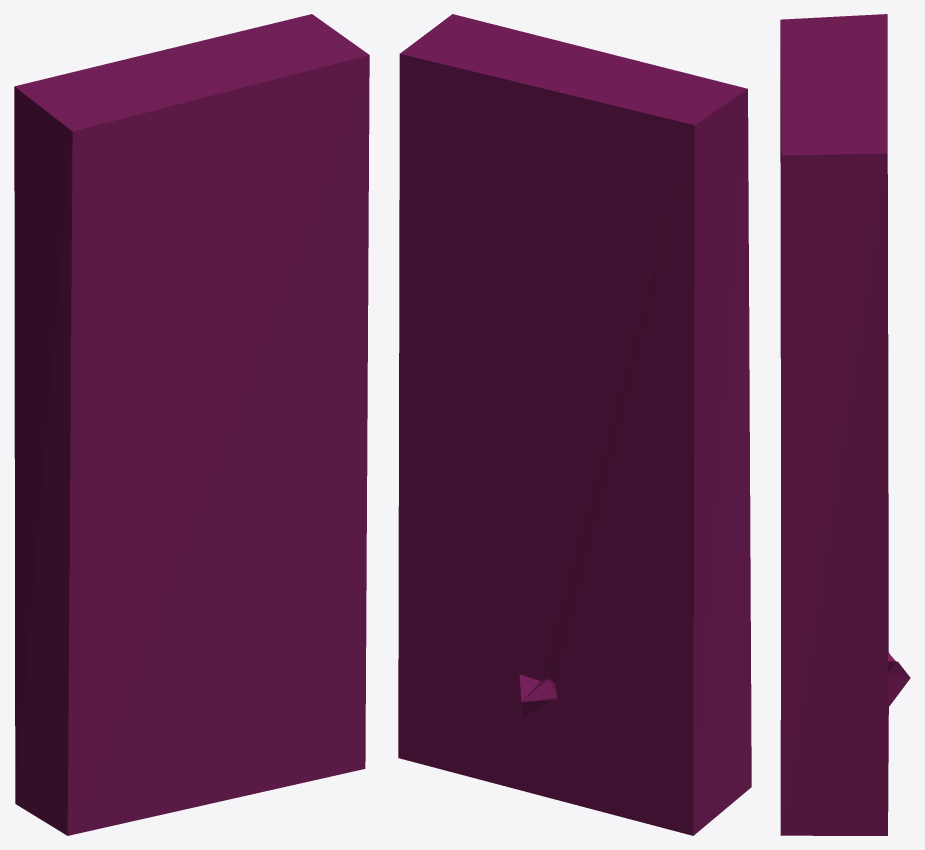
3 renders of one model, left to right at view 1: azimuth 30°, elevation 25°; view 2: azimuth 150°, elevation 25°; view 3: azimuth 270°, elevation 25°, orthographic. The views are drawn at different scales.
Parts seen in each view (by area): view 1: 819_Cube.3300; view 2: 819_Cube.3300; view 3: 819_Cube.3300.
Boxes of the visible parts, <box> form: 819_Cube.3300: <box>14,14,369,835</box>; 819_Cube.3300: <box>398,14,751,835</box>; 819_Cube.3300: <box>780,14,910,835</box>.
Bounding box in the file's own units: 5.34 × 12.12 × 2.08.
